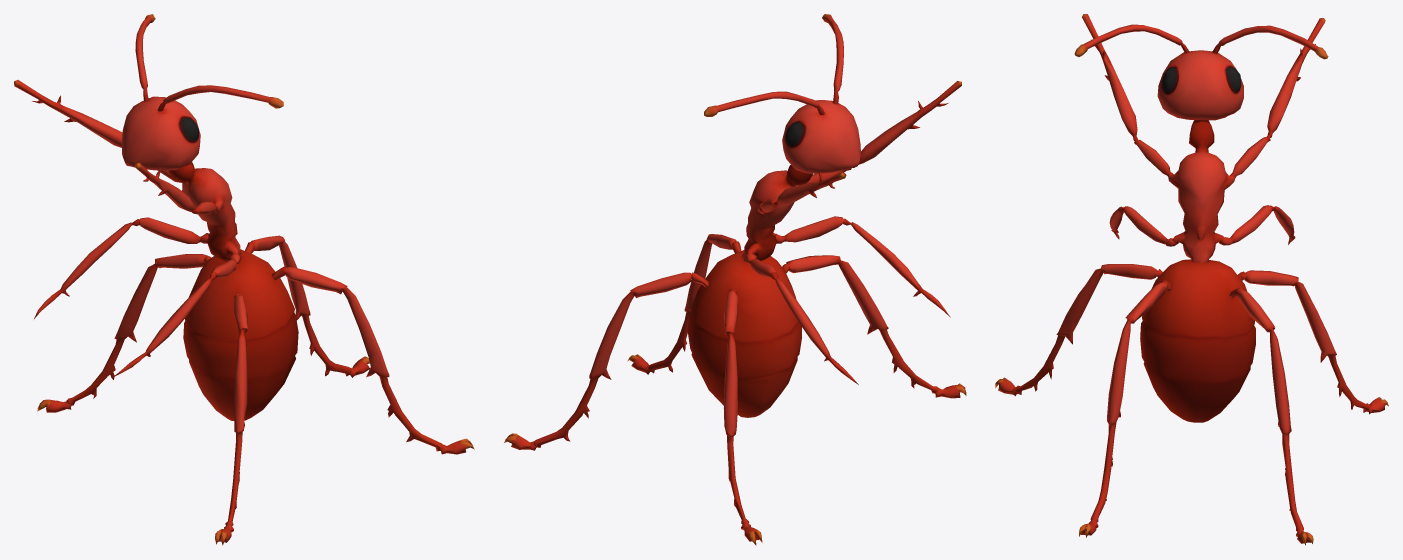
File: ant_worker.glb
3 views of the same model, side by side, from view 1: azimuth 30°, elevation 25°; view 2: azimuth 150°, elevation 25°; view 3: azimuth 270°, elevation 25° (orthographic).
Visible parts, largest first — view 1: tripo_node_49ac08db-1aa6-4618-ada5-2fdd5cc250d3; view 2: tripo_node_49ac08db-1aa6-4618-ada5-2fdd5cc250d3; view 3: tripo_node_49ac08db-1aa6-4618-ada5-2fdd5cc250d3.
Boxes of the visible parts, <box> form: tripo_node_49ac08db-1aa6-4618-ada5-2fdd5cc250d3: <box>14,14,474,545</box>; tripo_node_49ac08db-1aa6-4618-ada5-2fdd5cc250d3: <box>504,14,966,545</box>; tripo_node_49ac08db-1aa6-4618-ada5-2fdd5cc250d3: <box>995,14,1388,545</box>.
Bounding box in the file's own units: 0.916 × 0.998 × 0.8809.
1 material, 1 textured.
